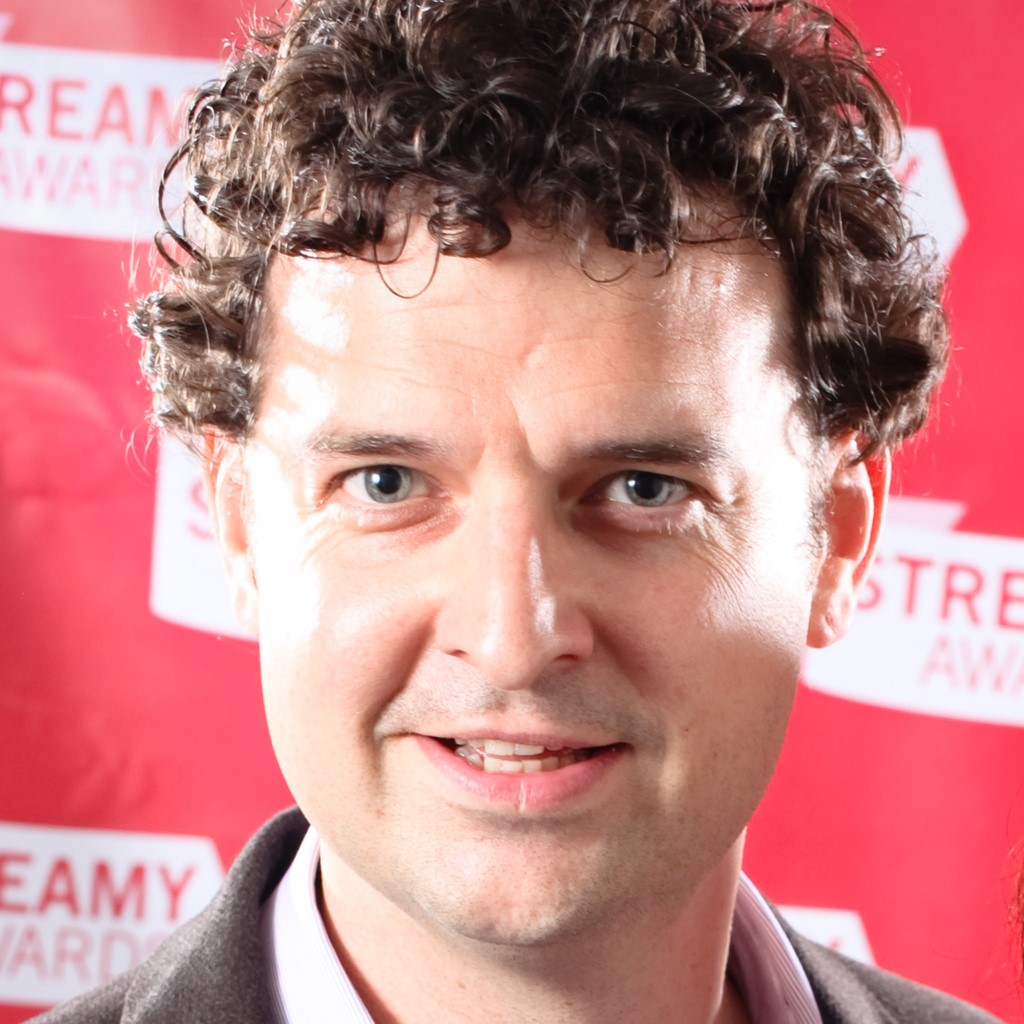sin_mascara: (228, 145, 833, 969)
